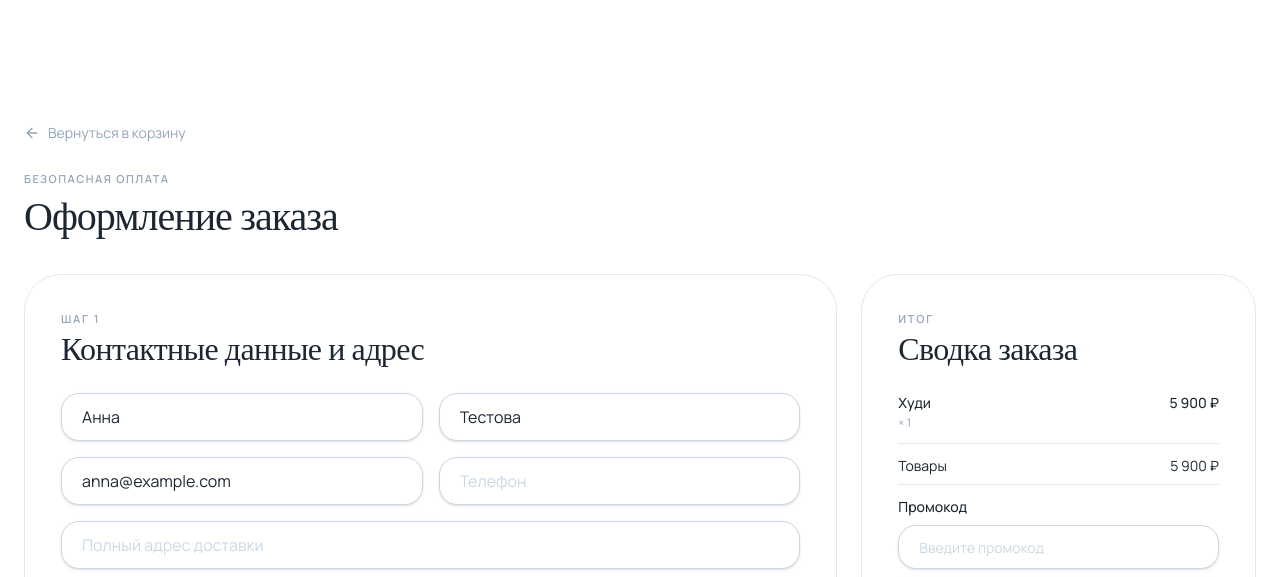
Test: Checkout (CHECKOUT.E2E.1) › an unavailable item behaves the same
The width and height of the screenshot is (1280, 577).
In the field with placeholder "Телефон": {"x": 620, "y": 481} [439,457,800,505], type "+79990001122"
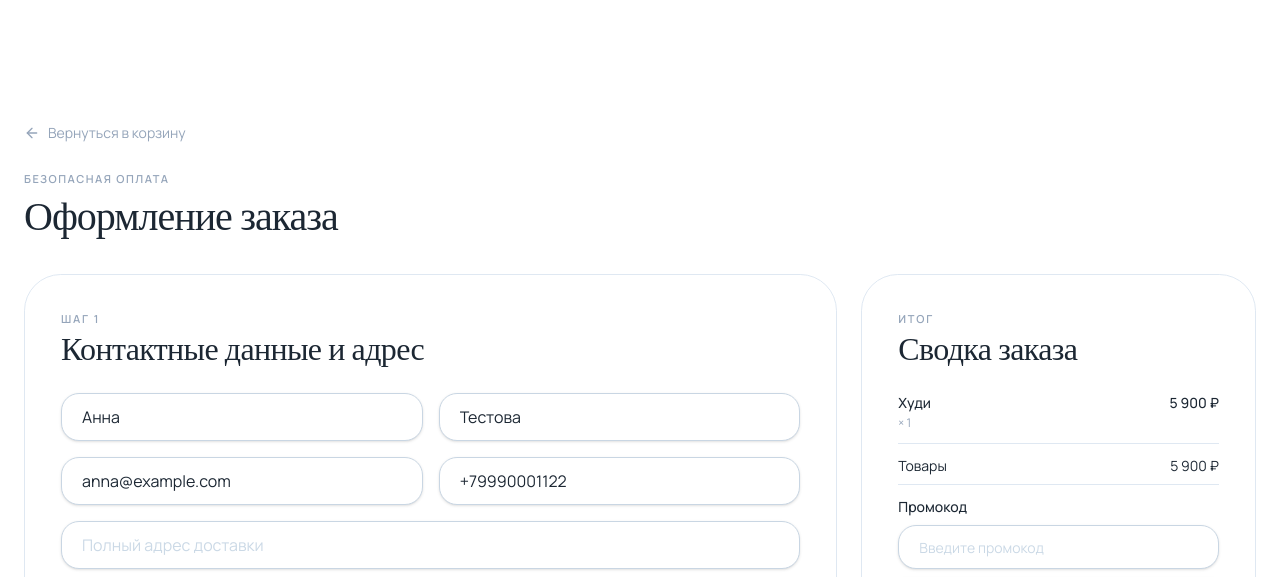
In the field with placeholder "Полный адрес доставки": {"x": 431, "y": 545} [61,521,800,569], type "Москва, Тверская 1"
(page scrolled)
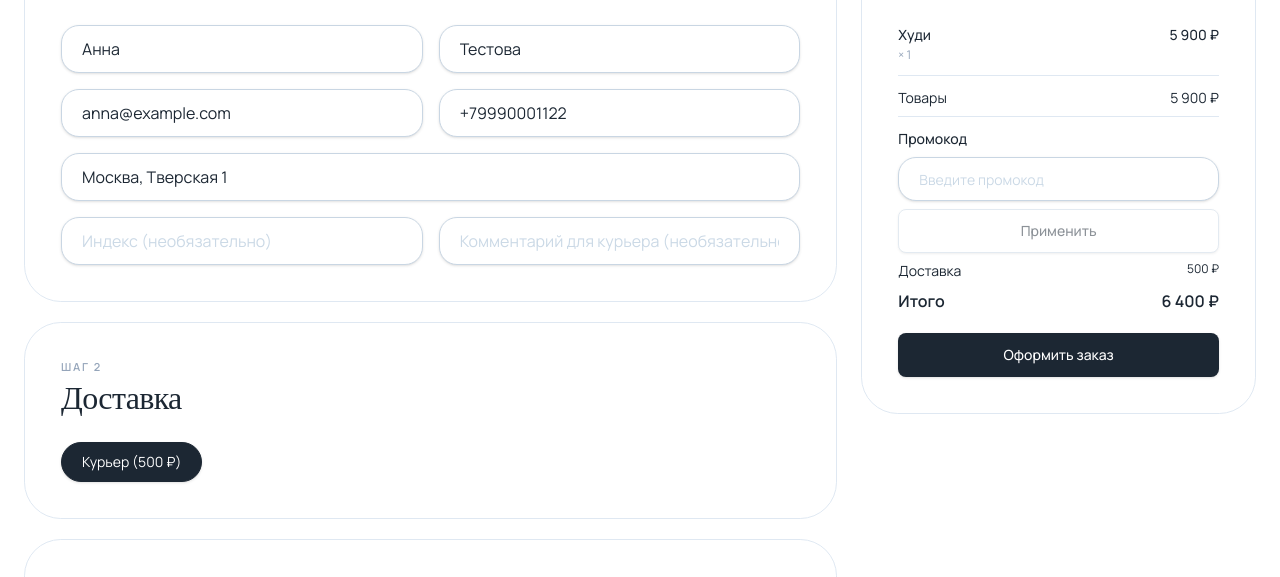
Check: the button "Курьер (500 ₽)" is shown, box [61,442,202,482]
Click the button "Оформить заказ": {"x": 1059, "y": 355} [898,333,1219,377]
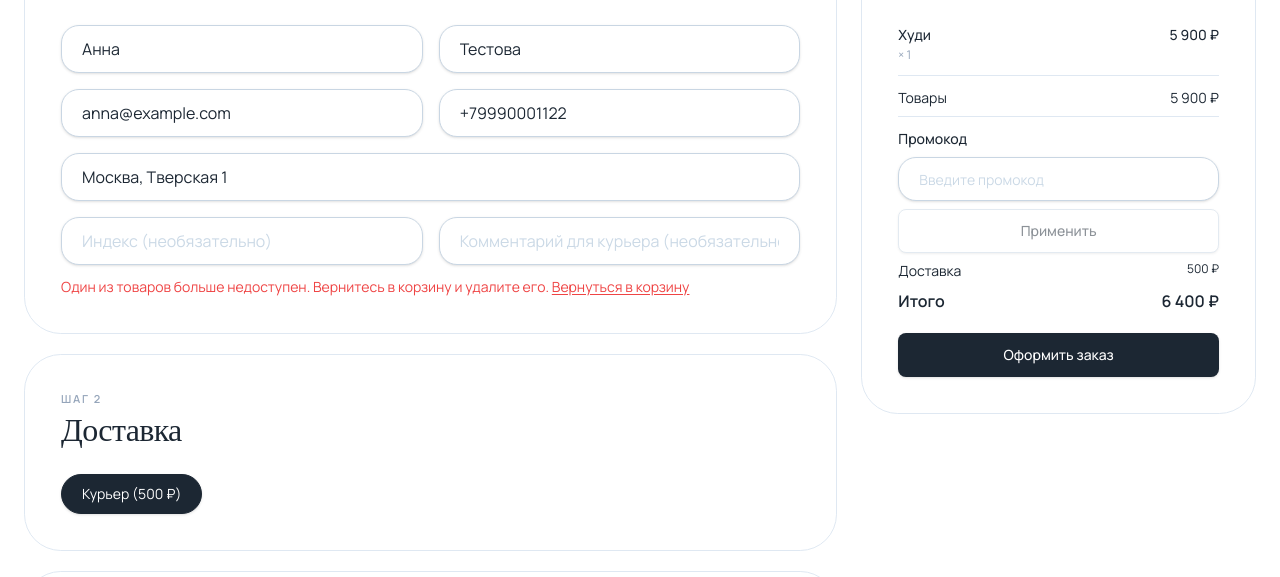
Check: the message shows "больше недоступен", box [61,277,549,296]
Check: the link with test id "checkout-back-to-cart" is shown, box [552,277,689,296]
